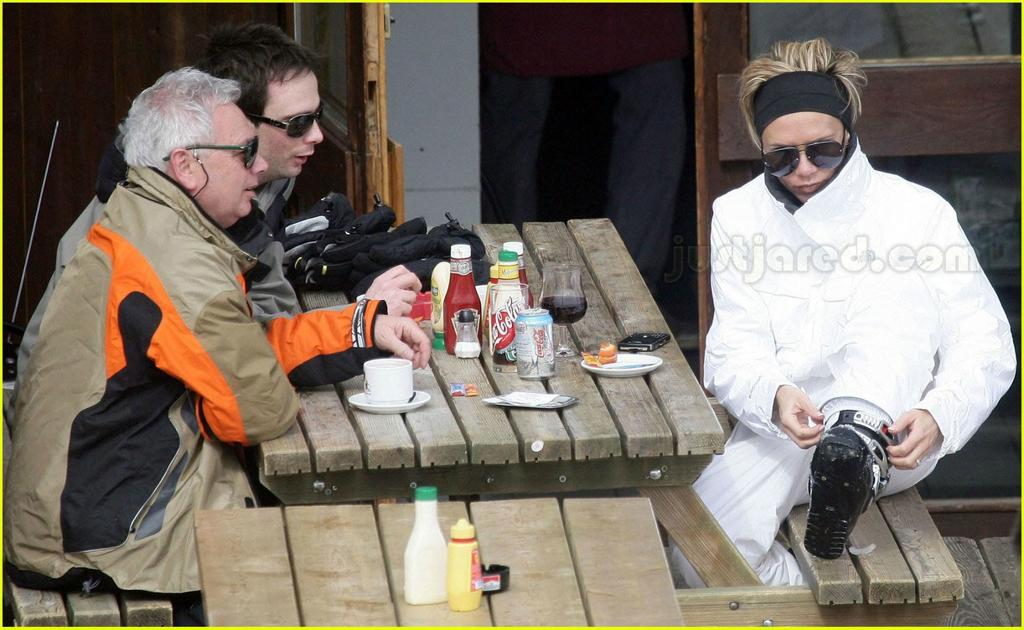face: (760, 100, 848, 206), (194, 100, 266, 224), (256, 68, 320, 180)
